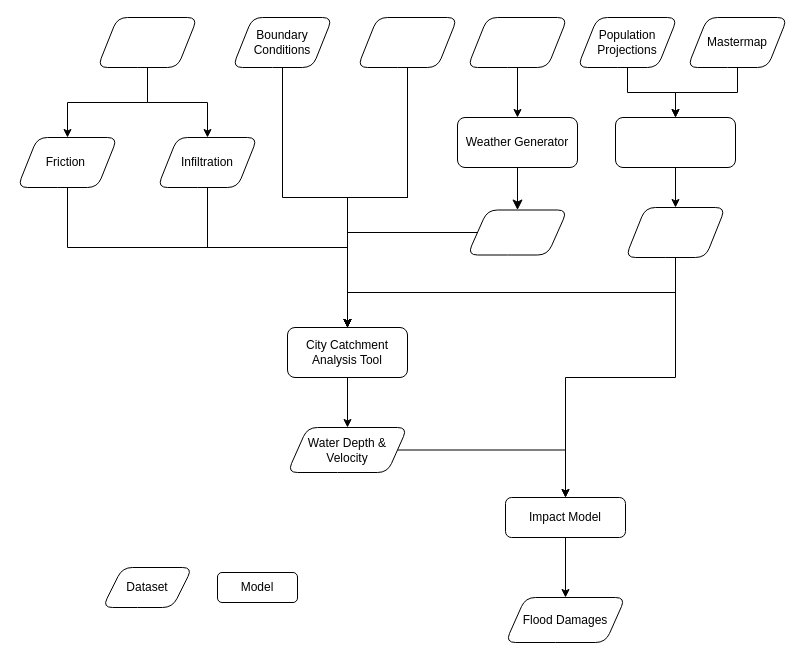
Image size: 805x660. Some labels were removed from this diagram. The centre of each missing label's shape, as x and y in pixels:
"Buildings" belongs at [675,232].
"Land Use" belongs at [147,42].
"Rainfall" belongs at [517,232].
"Topography" belongs at [407,42].
"UKCP18" belongs at [517,42].
"Urban Development Model" belongs at [675,142].
